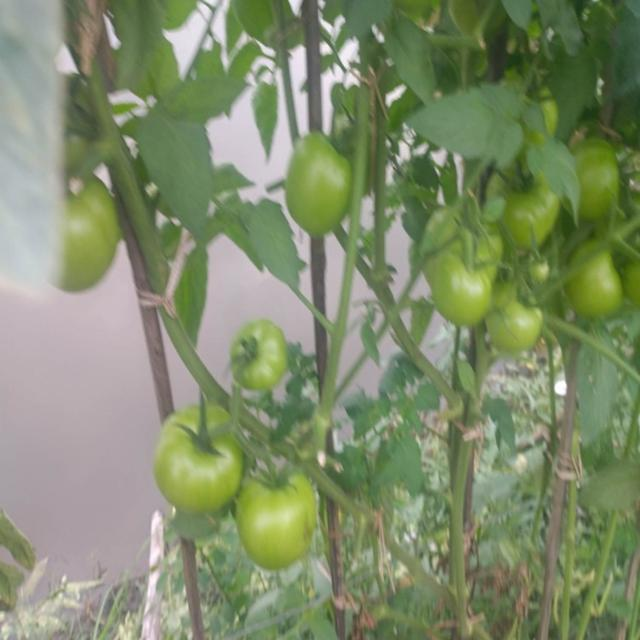tomato: (155, 404, 241, 509), (49, 179, 119, 298), (236, 474, 316, 572), (286, 131, 356, 235), (415, 204, 493, 271), (493, 162, 556, 237), (568, 137, 626, 216), (229, 321, 293, 389), (425, 253, 490, 317), (571, 243, 626, 318), (492, 279, 538, 352), (534, 259, 554, 285)
